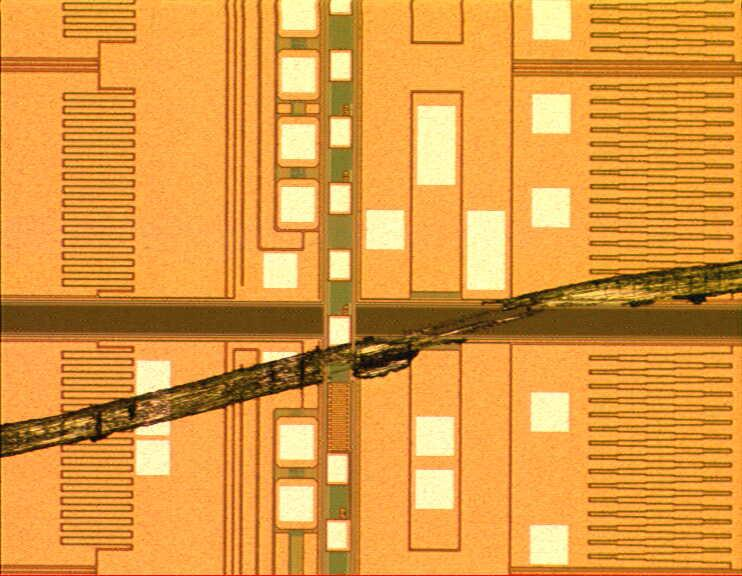SCRATCH: (1, 250, 742, 473)
